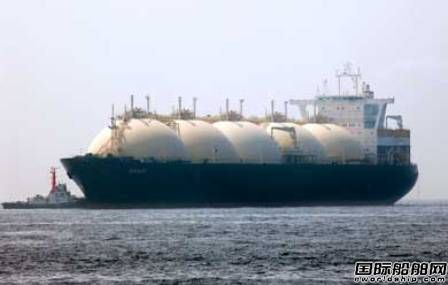Cargoship: (56, 69, 423, 211)
otherboat: (4, 169, 90, 211)
